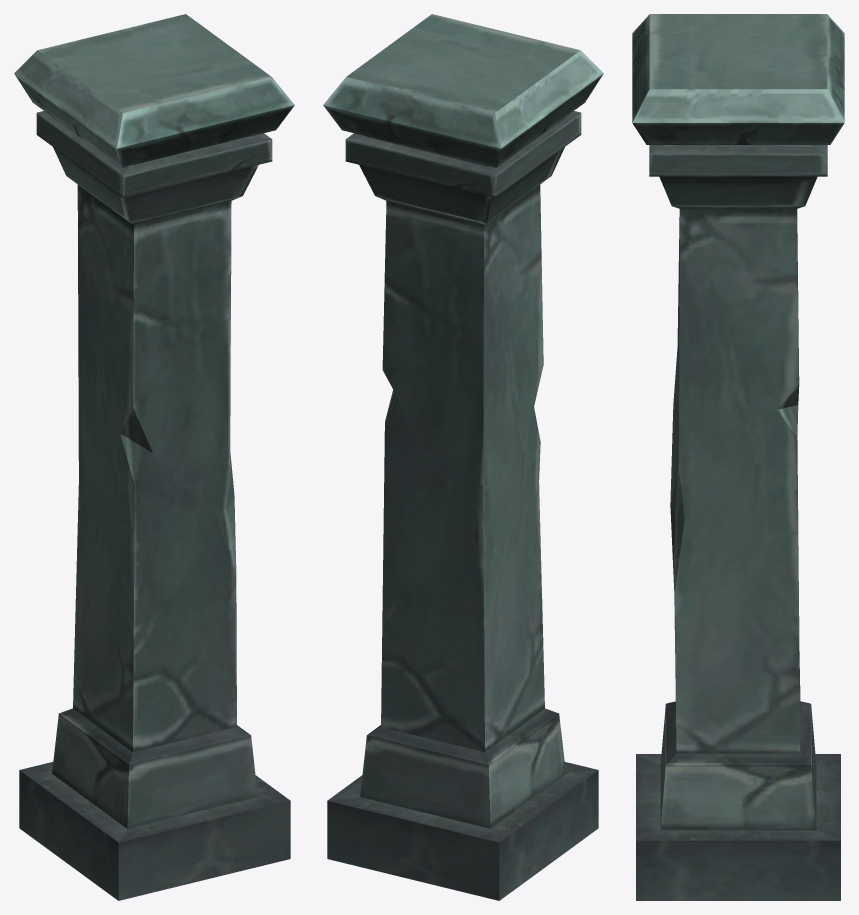
The model's file is crypt_pillar_straight_01.fbx.
3 renders of one model, left to right at view 1: azimuth 30°, elevation 25°; view 2: azimuth 150°, elevation 25°; view 3: azimuth 270°, elevation 25°, orthographic. The views are drawn at different scales.
Visible parts, largest first — view 1: crypt_pillar_straight_01-0; view 2: crypt_pillar_straight_01-0; view 3: crypt_pillar_straight_01-0.
Part boxes in pixels (x1=…): crypt_pillar_straight_01-0: x1=14, y1=14, x2=294, y2=900; crypt_pillar_straight_01-0: x1=323, y1=14, x2=603, y2=900; crypt_pillar_straight_01-0: x1=632, y1=14, x2=844, y2=900.
Size of the model in its own units: 2.77 by 11.6 by 2.77.
